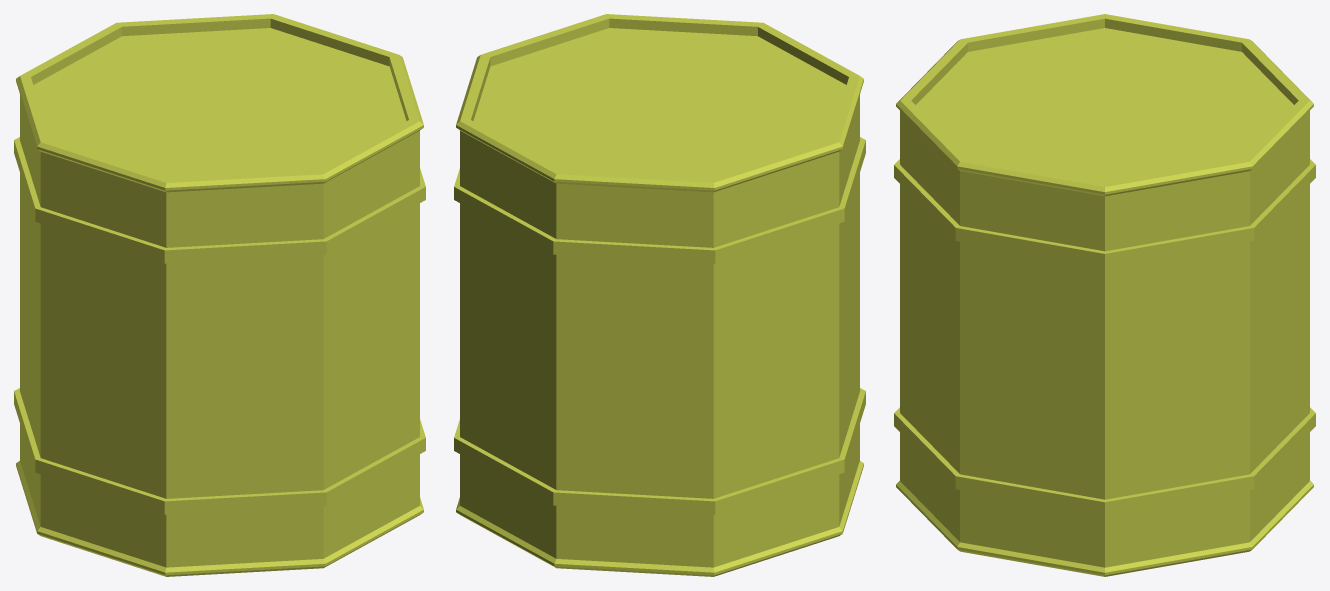
File: Radiation_Barrel.glb
The picture shows the model from 3 angles, left to right: view 1: azimuth 30°, elevation 25°; view 2: azimuth 150°, elevation 25°; view 3: azimuth 270°, elevation 25°; orthographic projection.
Visible parts, largest first — view 1: Radiation Barrel; view 2: Radiation Barrel; view 3: Radiation Barrel.
Part boxes in pixels (x1,y1,x2,y2): Radiation Barrel: (14,14,425,576); Radiation Barrel: (454,14,865,576); Radiation Barrel: (894,14,1315,576).
Size of the model in its own units: 2.06 by 2.1 by 2.06.
1 material, 1 textured.
